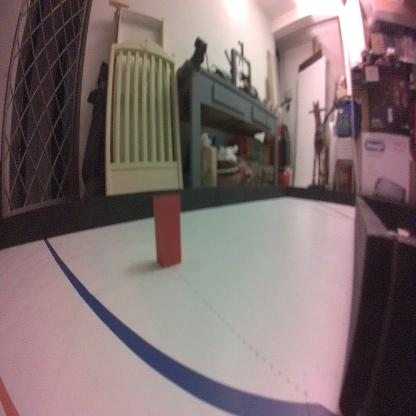red: (152, 190, 182, 270)
